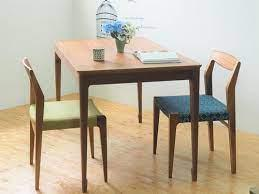desk: (47, 21, 205, 122)
